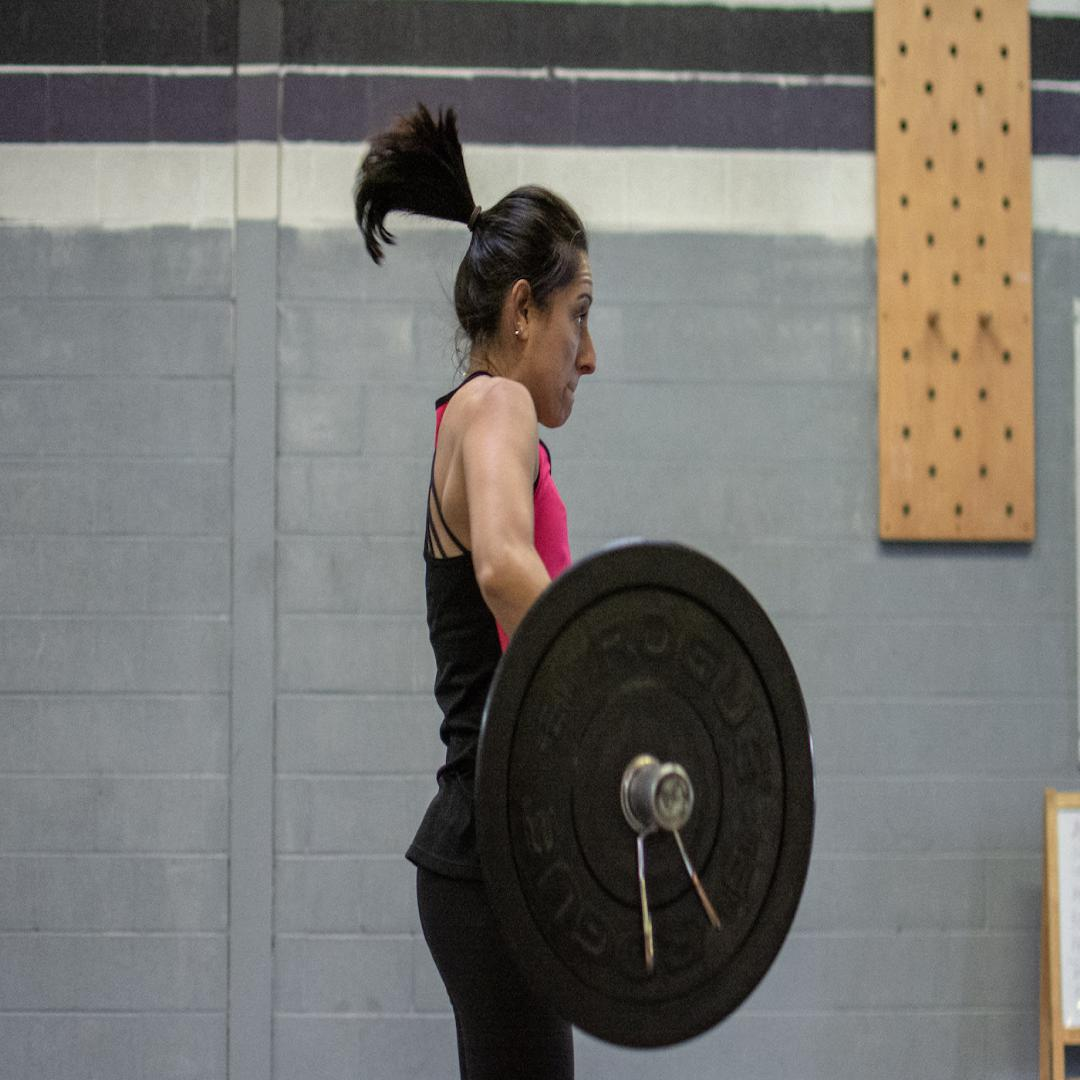Bar: (650, 763, 694, 831)
Barbell: (476, 539, 813, 1043)
